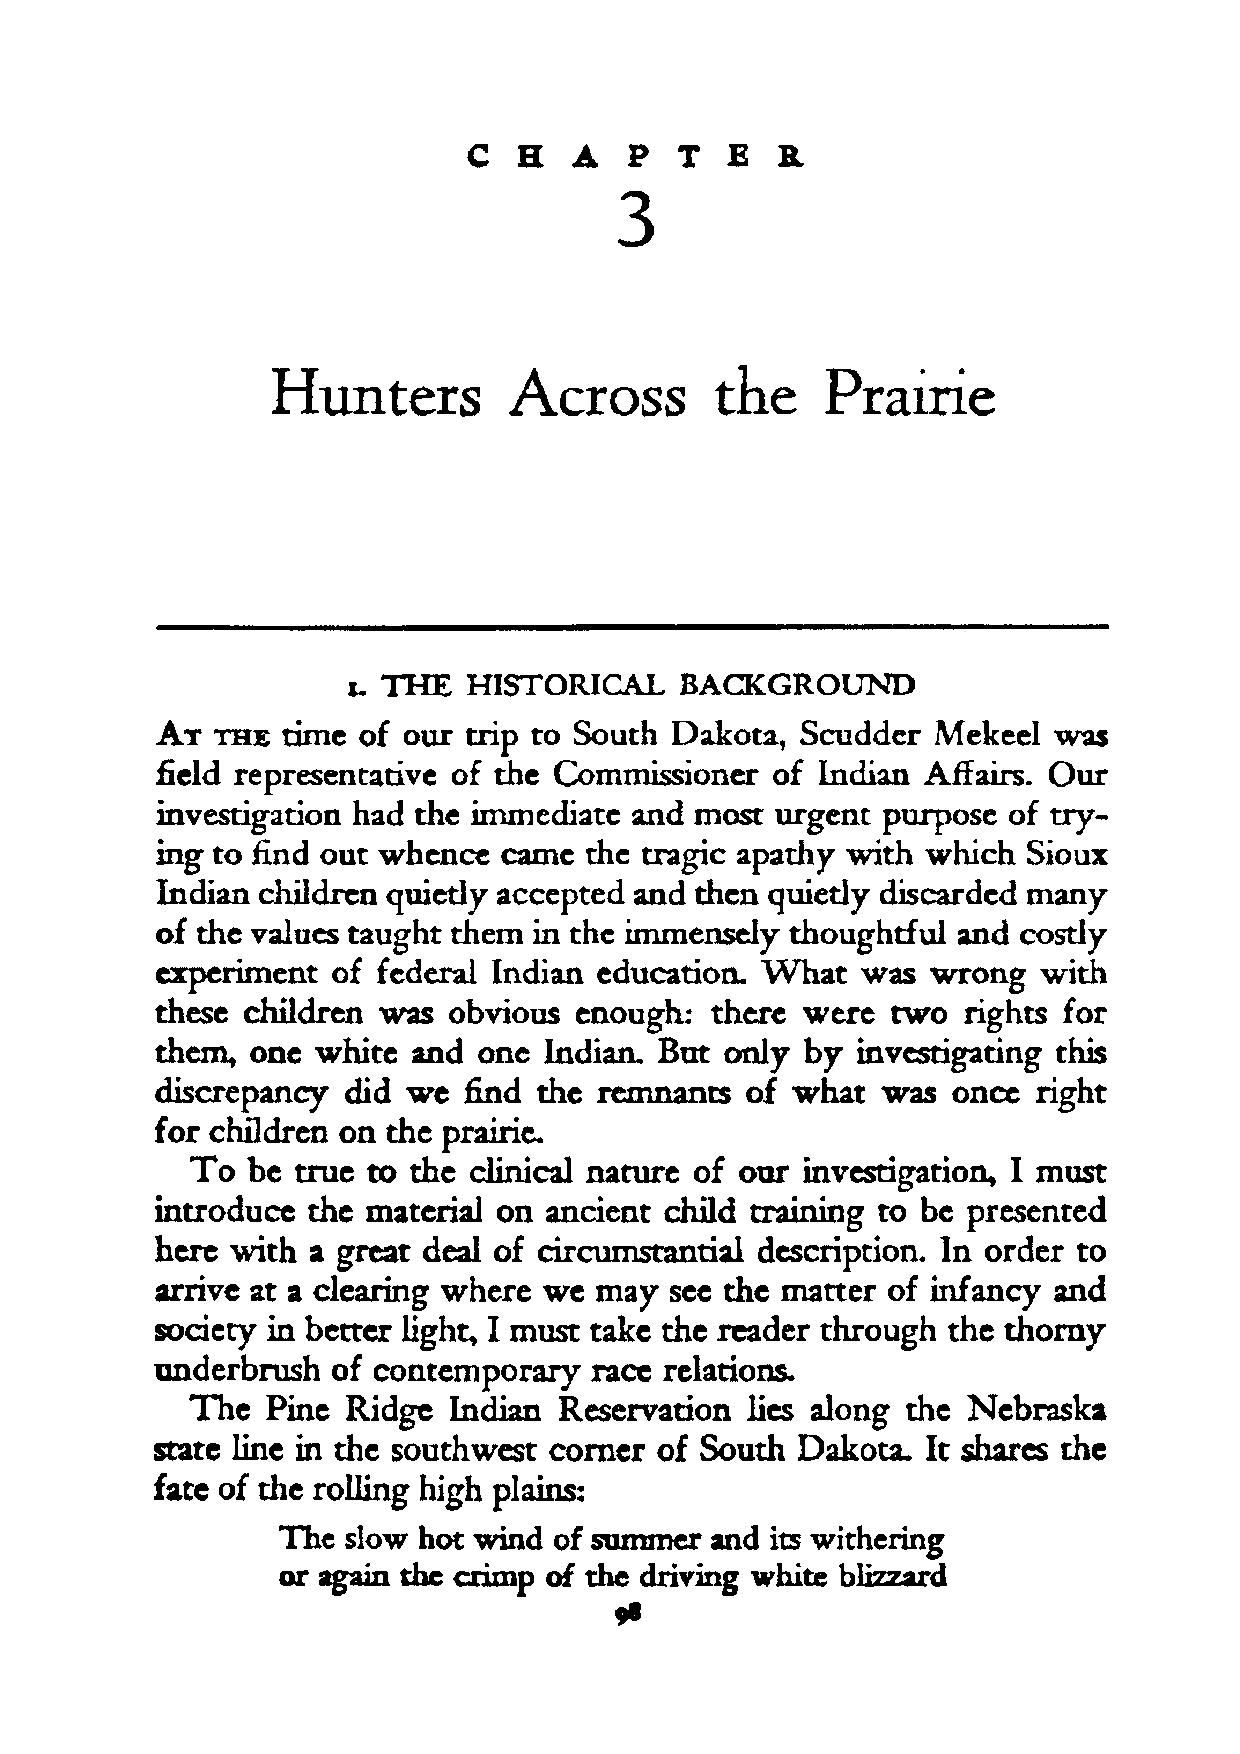chapter: (268, 137, 997, 419), (342, 670, 917, 701)
content: (153, 714, 1108, 1597)
content_pagenumber: (611, 1600, 643, 1628)
